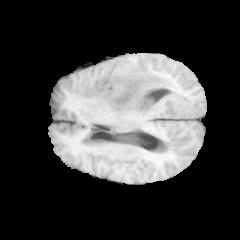glioma: (95, 63, 174, 113)
